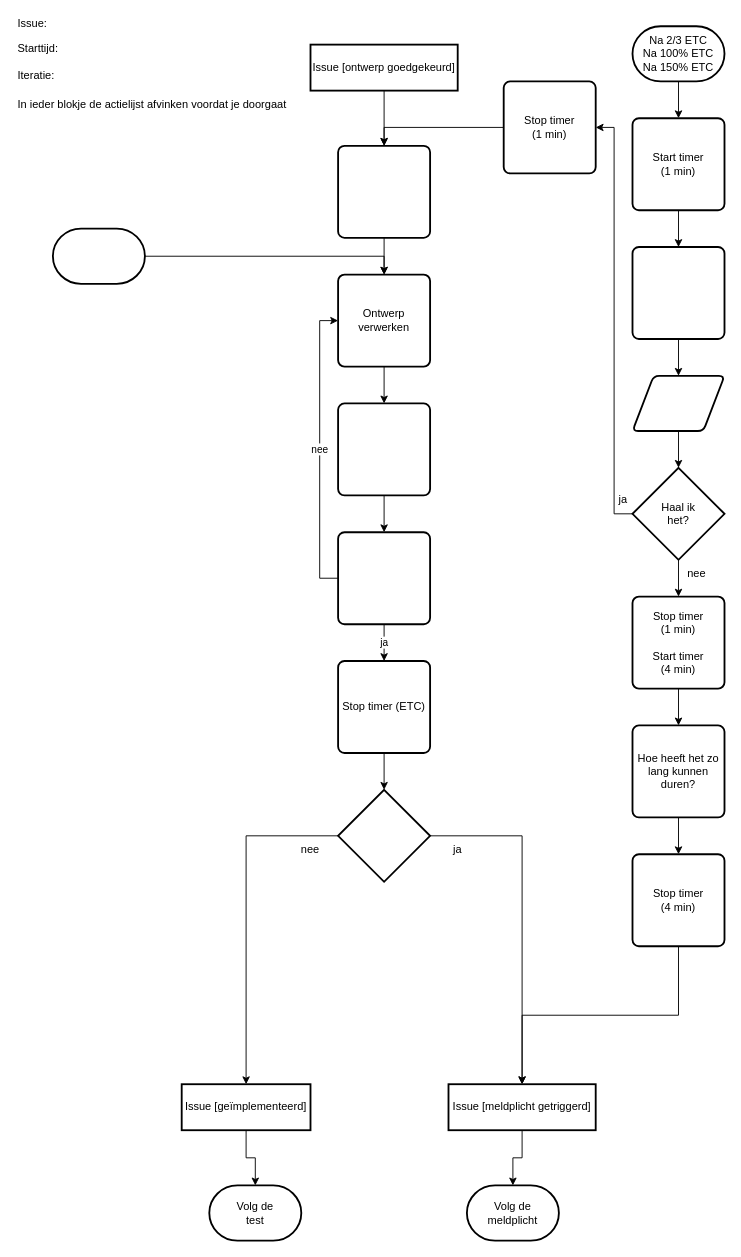
The diagram is 741 pixels wide and 1257 high, and some of its shapes have lost their labels. Each missing label, with the centre of its shape:
Bijzonder- heden gezien?: [384,835]
Evalueer of de deliverables correct en volledig zijn afgerond: [384,578]
Hoe lang denk je nog nodig te hebben?: [678,292]
im: m.: [678,402]
Oplossing implementeren: [384,449]
Significant inzicht gekregen: [98,255]
Start timer (ETC): [384,191]
